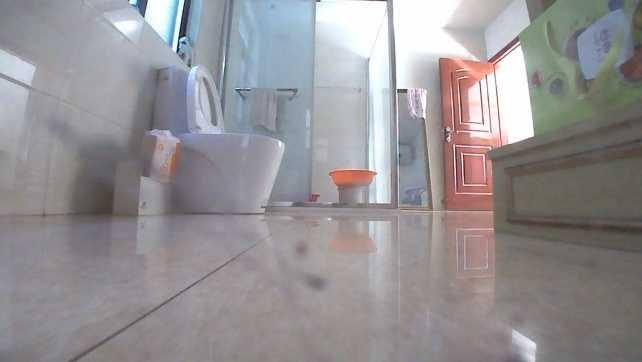door_anno: (436, 56, 508, 218)
door_sill: (274, 197, 394, 213)
toilet: (154, 63, 289, 219)
